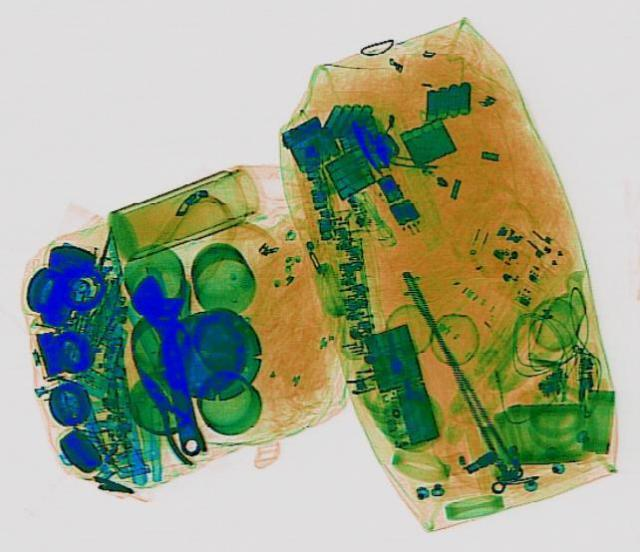Pliers: (126, 364, 214, 463)
Wrench: (124, 268, 216, 457)
